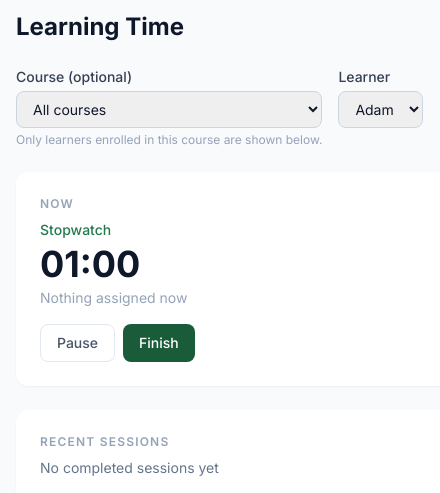
it: LearningTimePage › "Pause" transitions a running stopwatch session to Paused
expect the element with test id "now-card-running" is shown: met, box top-left (40, 196), bottom-right (195, 362)
Click the button with test id "pause-button": click(78, 343) top-left (40, 324), bottom-right (115, 362)
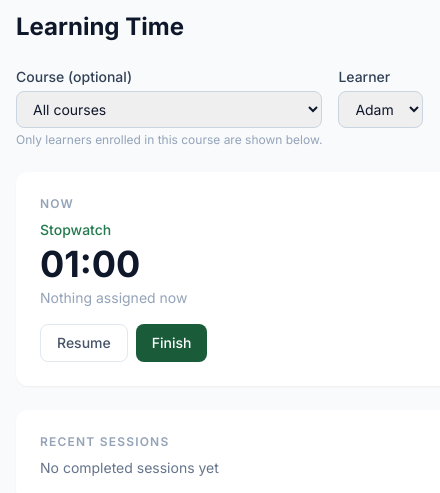
expect the button with test id "finish-button" is shown: met, box top-left (136, 324), bottom-right (207, 362)
expect the element with test id "now-card-paused" is shown: met, box top-left (40, 196), bottom-right (207, 362)
expect the button with test id "resume-button" is shown: met, box top-left (40, 324), bottom-right (128, 362)
